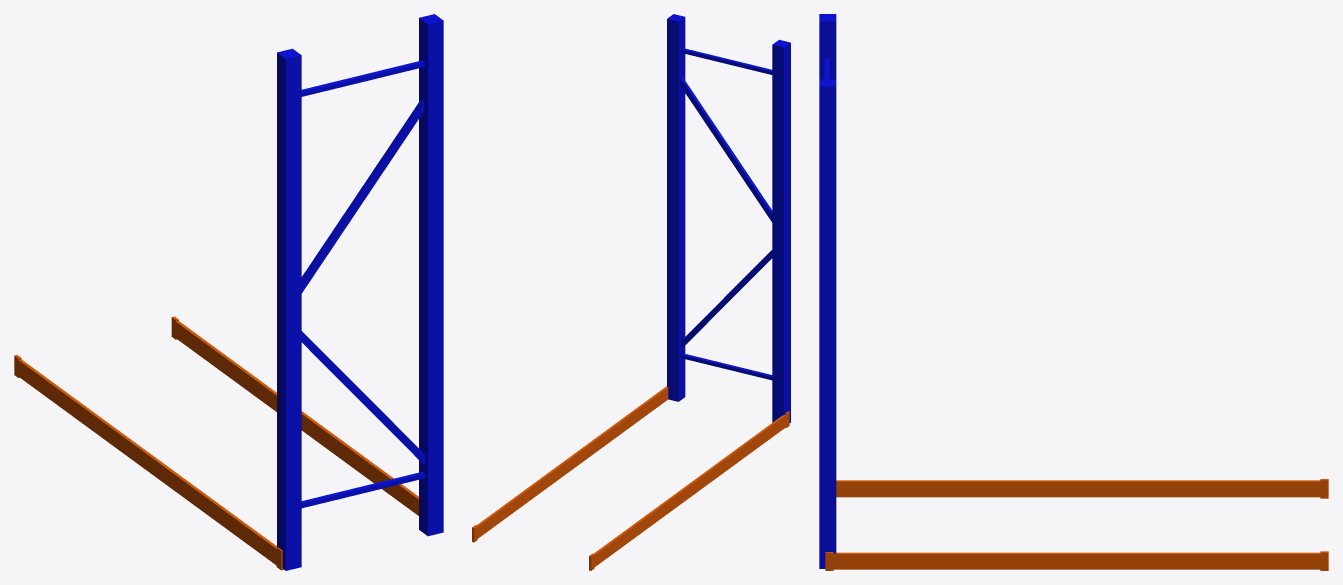
The model's file is Stand.fbx.
3 views of the same model, side by side, from view 1: azimuth 30°, elevation 25°; view 2: azimuth 150°, elevation 25°; view 3: azimuth 270°, elevation 25° (orthographic). The views are drawn at different scales.
Visible parts, largest first — view 1: Cube, Cube.001; view 2: Cube, Cube.001; view 3: Cube.001, Cube.
Part boxes in pixels (left/top/right/bottom): Cube: left=277, top=14, right=443, bottom=570; Cube.001: left=14, top=316, right=418, bottom=570; Cube: left=667, top=14, right=790, bottom=422; Cube.001: left=472, top=386, right=789, bottom=570; Cube.001: left=825, top=479, right=1328, bottom=570; Cube: left=819, top=14, right=836, bottom=568.
Size of the model in its own units: 205 by 622 by 593.
